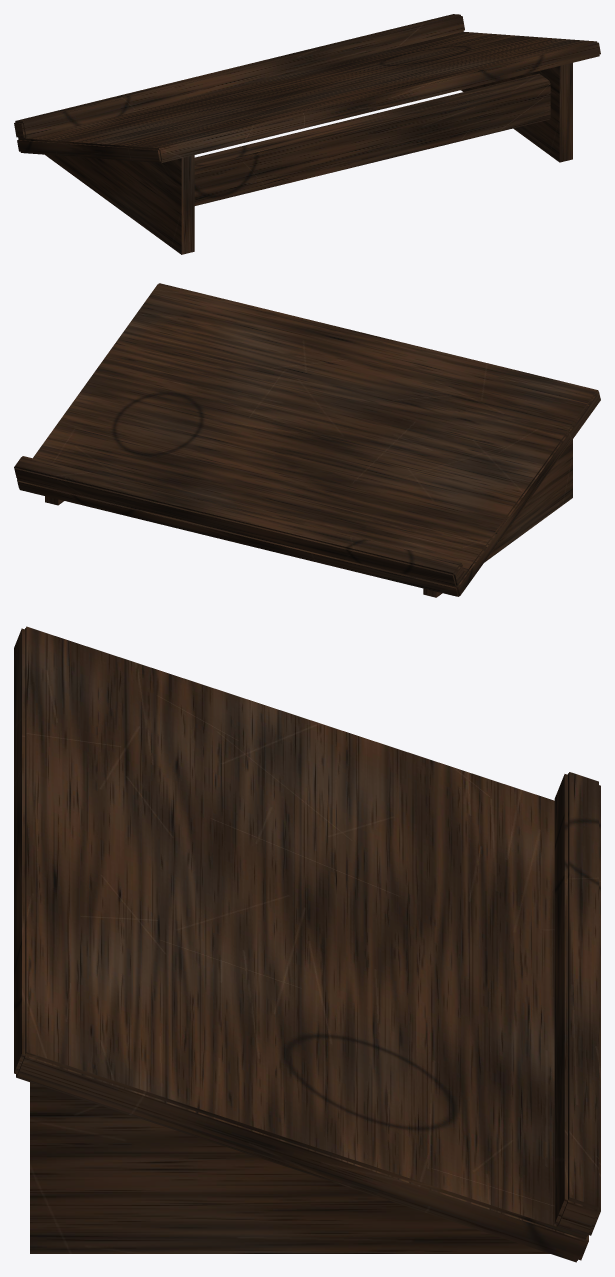
Rendered from book-stand.glb.
The picture shows the model from 3 angles, top to bottom: view 1: azimuth 30°, elevation 25°; view 2: azimuth 150°, elevation 25°; view 3: azimuth 270°, elevation 25°; orthographic projection. The views are drawn at different scales.
Visible parts, largest first — view 1: BookStand; view 2: BookStand; view 3: BookStand.
Part boxes in pixels (box(x1,y1,x2,y2)): BookStand: box(14, 14, 600, 254); BookStand: box(14, 283, 600, 597); BookStand: box(14, 626, 600, 1262).
Bounding box in the file's own units: 0.84 × 0.2055 × 0.4863.
1 material, 1 textured.
